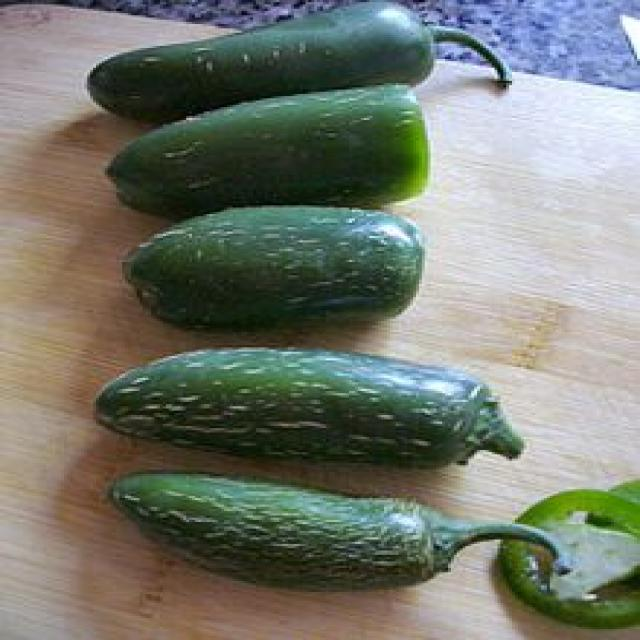aji: (104, 348, 511, 454), (110, 474, 482, 588), (114, 220, 451, 329), (101, 117, 472, 208), (98, 14, 476, 103)
